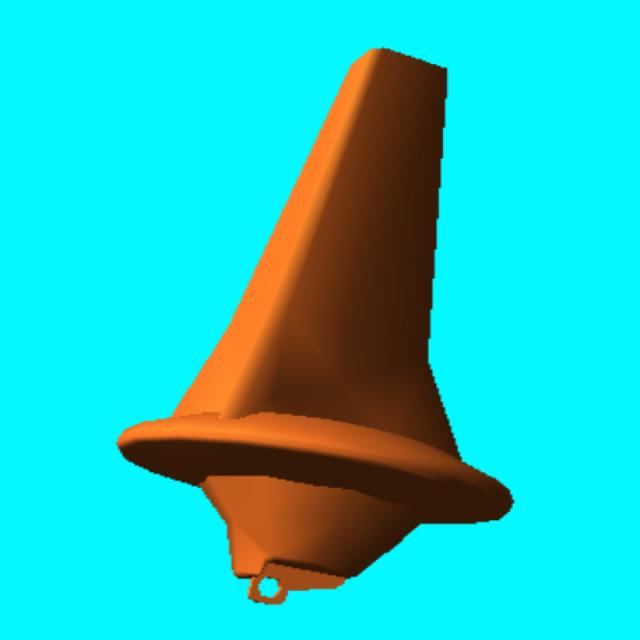OrangeBuoy: (117, 42, 514, 605)
